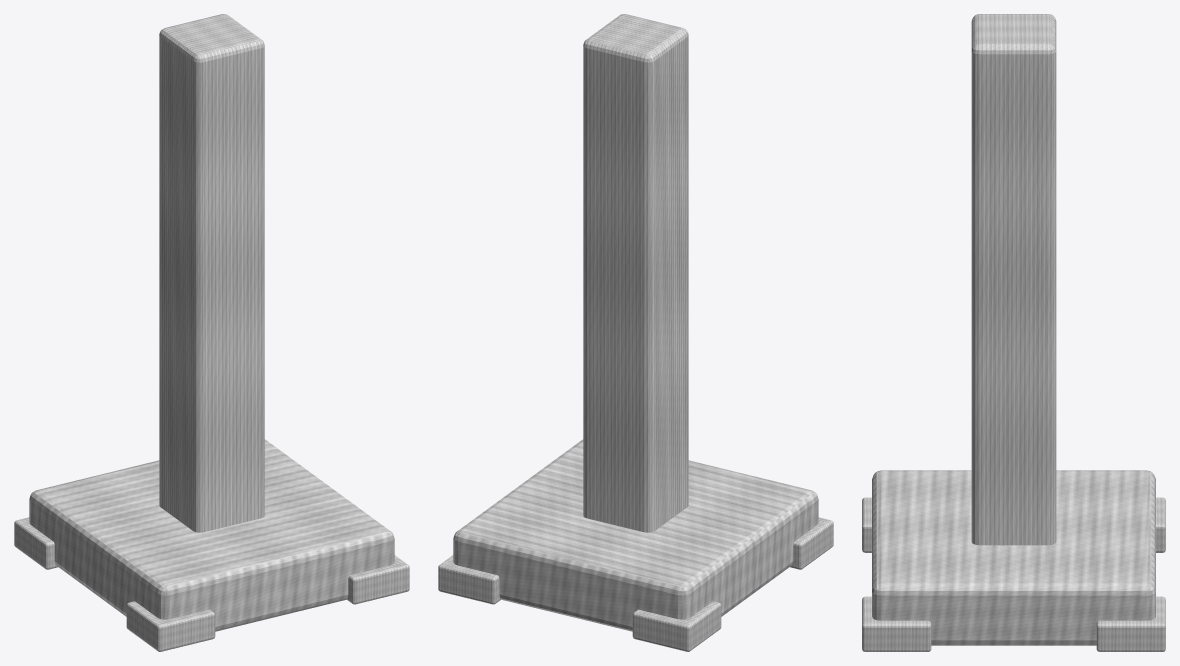
The model's file is pillars_variant_d.glb.
The picture shows the model from 3 angles, left to right: view 1: azimuth 30°, elevation 25°; view 2: azimuth 150°, elevation 25°; view 3: azimuth 270°, elevation 25°; orthographic projection. The views are drawn at different scales.
Parts seen in each view (by area): view 1: Structural pillar.003, Foundation.003, Mounting foot.012, Mounting foot.014, Mounting foot.013; view 2: Structural pillar.003, Foundation.003, Mounting foot.013, Mounting foot.015, Mounting foot.012; view 3: Structural pillar.003, Foundation.003, Mounting foot.014, Mounting foot.015, Mounting foot.012, Mounting foot.013.
Boxes of the visible parts, x1,y1,x2,y2 form: Structural pillar.003: [159, 14, 264, 532]; Foundation.003: [29, 439, 394, 631]; Mounting foot.012: [126, 601, 215, 651]; Mounting foot.014: [347, 555, 409, 604]; Mounting foot.013: [14, 517, 57, 569]; Structural pillar.003: [583, 14, 688, 532]; Foundation.003: [453, 439, 818, 631]; Mounting foot.013: [632, 601, 721, 651]; Mounting foot.015: [438, 555, 500, 604]; Mounting foot.012: [790, 517, 833, 569]; Structural pillar.003: [971, 14, 1056, 545]; Foundation.003: [872, 470, 1155, 645]; Mounting foot.014: [862, 596, 931, 651]; Mounting foot.015: [1096, 596, 1165, 651]; Mounting foot.012: [862, 497, 871, 552]; Mounting foot.013: [1156, 497, 1165, 552].
Size of what is drawn, in the model's own units: 1.97 by 4 by 1.97.
3 materials, 3 textured.
